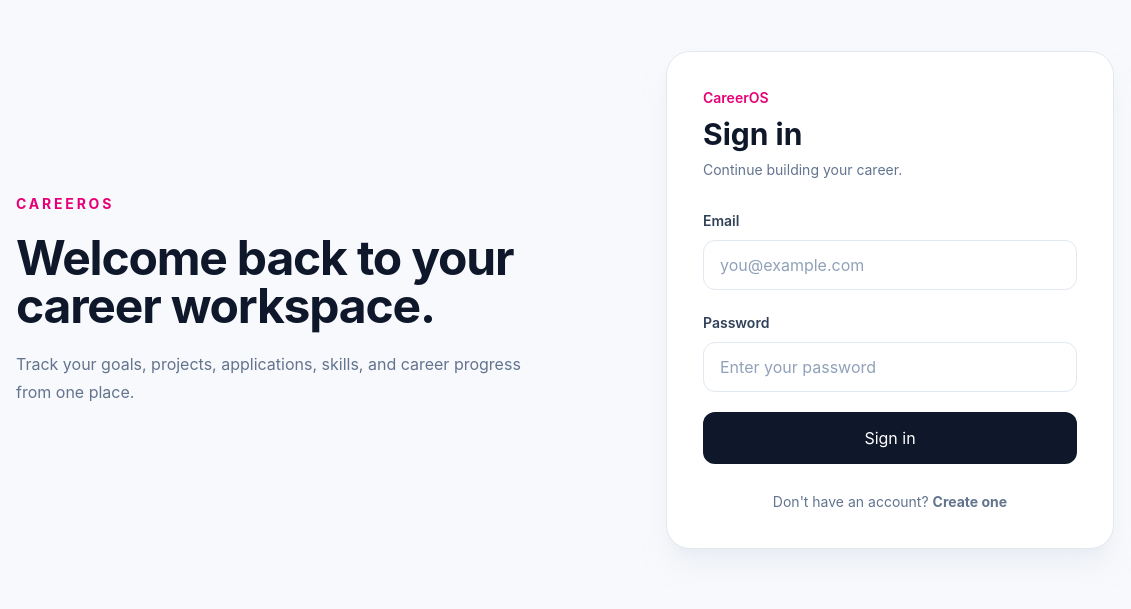
it: Login › shows validation error when email is empty
The image size is (1131, 609).
Step 1. Click the button "Sign in" → (890, 438), box [703,412,1077,464]
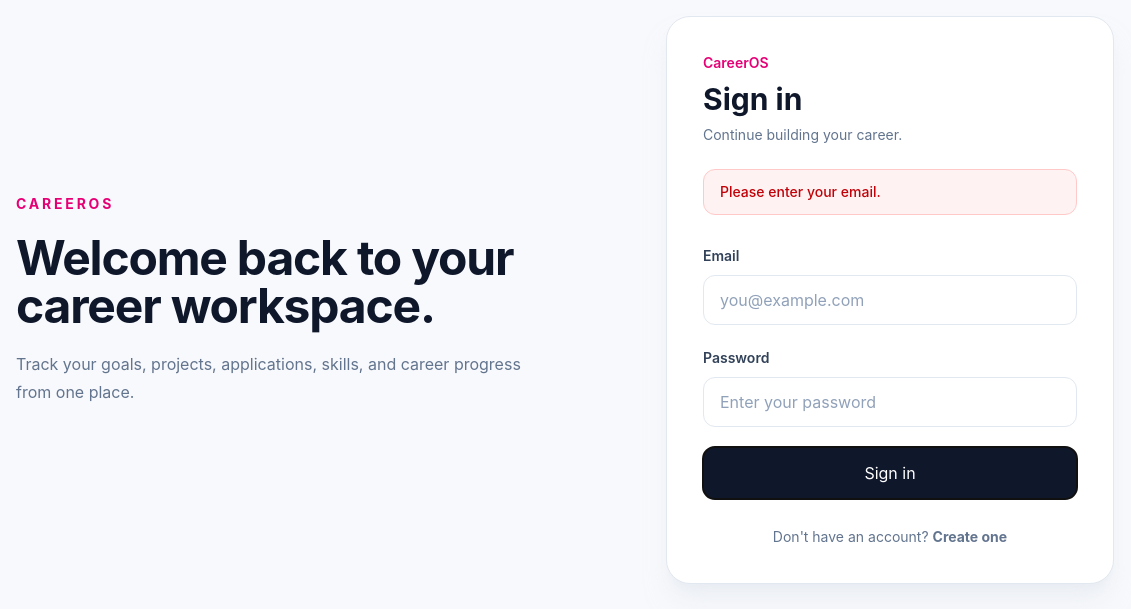
Now the text "Please enter your email." is shown, box [703,169,1077,215]
